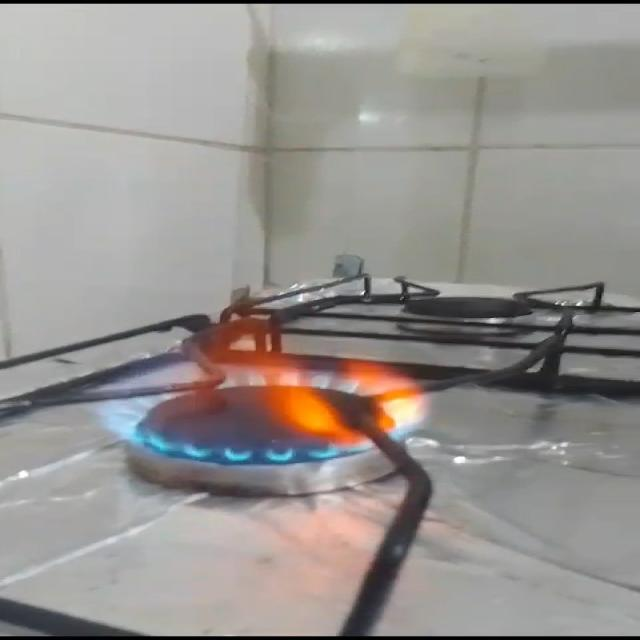fogo-ypXI: (81, 297, 432, 470)
